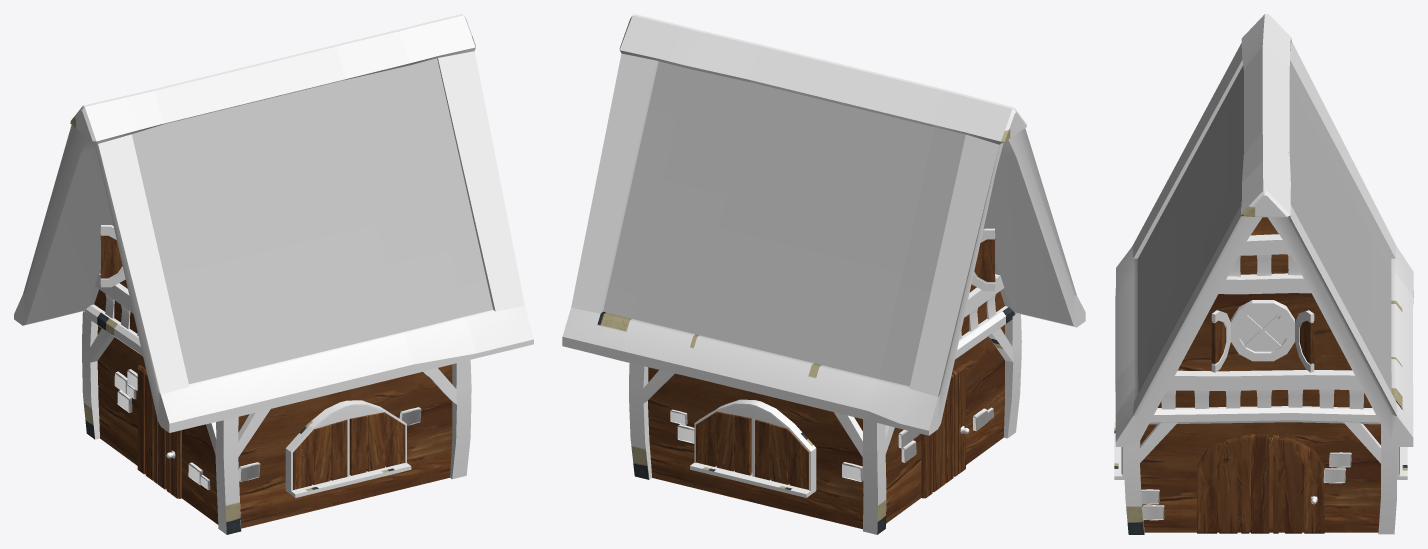
The model's file is House_3.fbx.
The picture shows the model from 3 angles, left to right: view 1: azimuth 30°, elevation 25°; view 2: azimuth 150°, elevation 25°; view 3: azimuth 270°, elevation 25°; orthographic projection. The views are drawn at different scales.
Visible parts, largest first — view 1: House_3; view 2: House_3; view 3: House_3.
Boxes of the visible parts, x1,y1,x2,y2 form: House_3: (14, 14, 533, 534); House_3: (562, 14, 1085, 534); House_3: (1114, 14, 1413, 534).
Bounding box in the file's own units: 661 × 648 × 468.
